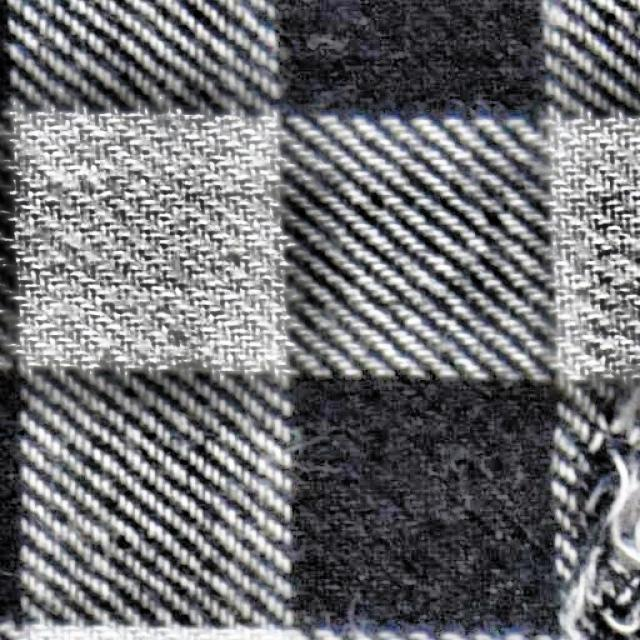Stitch: (536, 394, 640, 640)
